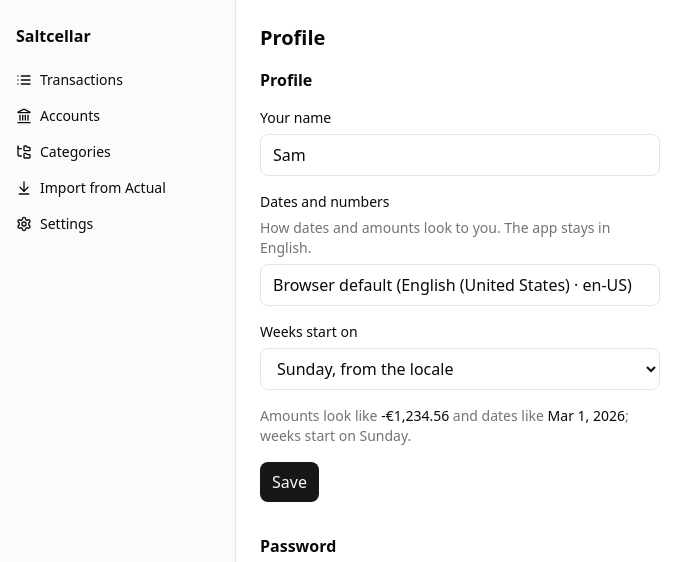
Test: Settings › Profile › shows what the server refuses on its field
Replace the text in the dropdown with id "display_locale" with "austria" at (460, 285), box [260,264,660,306]
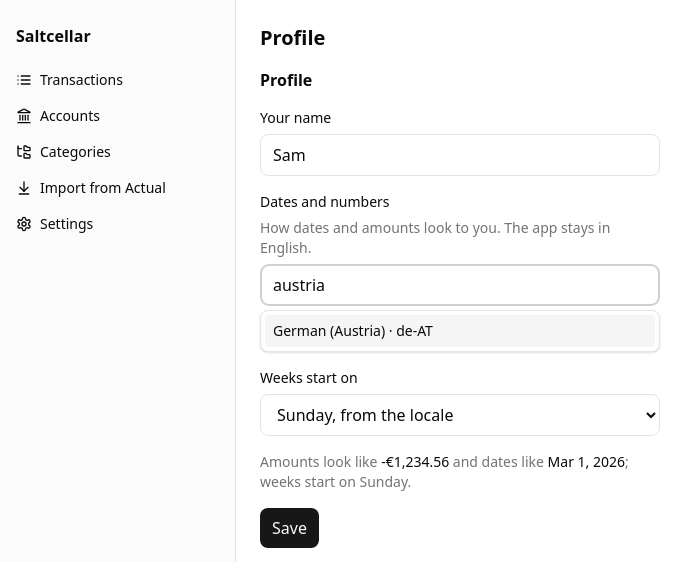
Click the option "German (Austria) · de-AT".
click(353, 330)  # box [265,315,655,347]
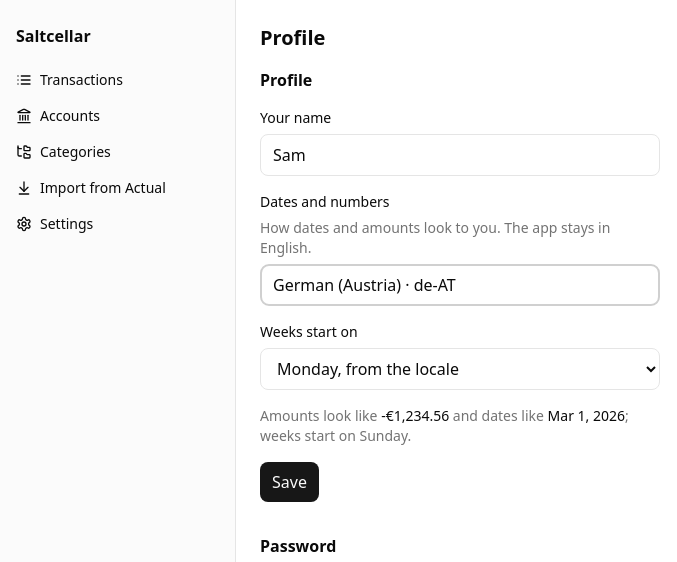
Submit the form that starts with "Your name", box [260,108,660,502]
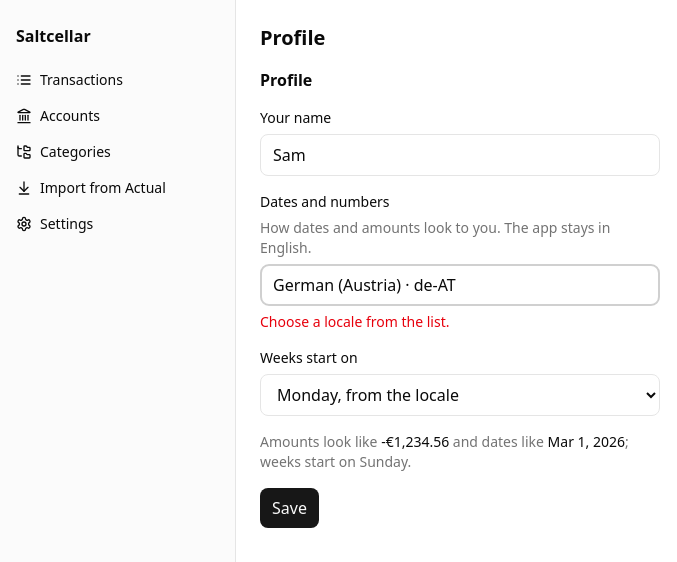
Result: the text with id "display_locale-error" reads "Choose a locale from the list." at [260,312,450,331]
